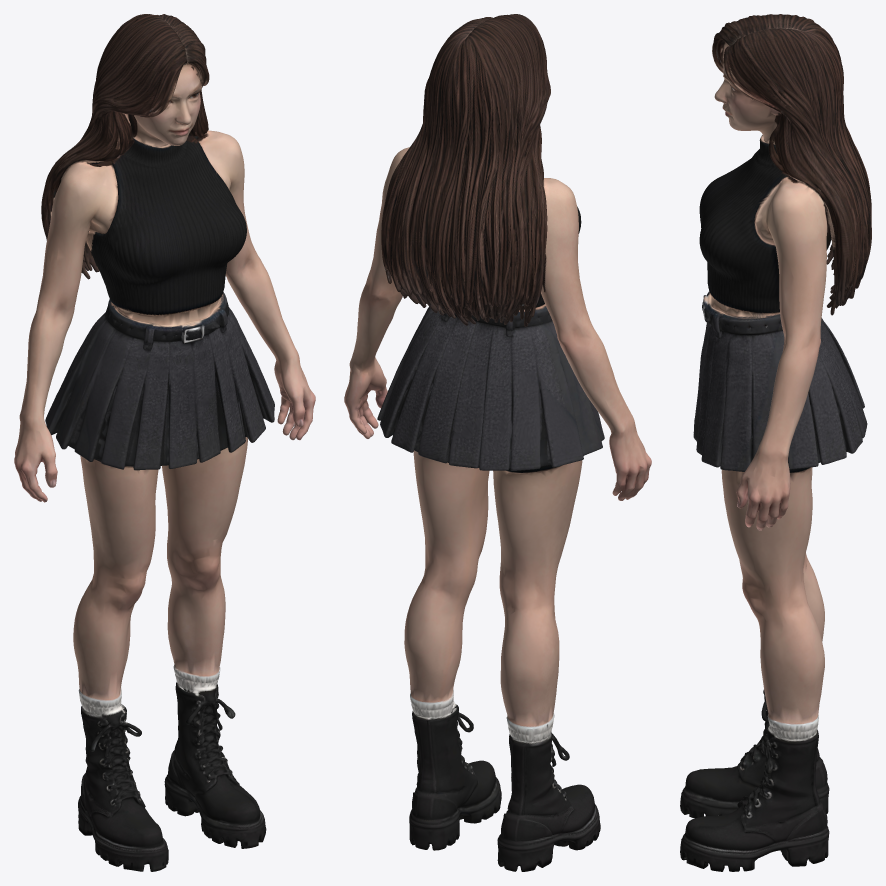
The model's file is female-street-mobile.glb.
The picture shows the model from 3 angles, left to right: view 1: azimuth 30°, elevation 25°; view 2: azimuth 150°, elevation 25°; view 3: azimuth 270°, elevation 25°; orthographic projection.
Visible parts, largest first — view 1: Dada_female_street_complete_outfit; view 2: Dada_female_street_complete_outfit; view 3: Dada_female_street_complete_outfit.
Part boxes in pixels (<box>): Dada_female_street_complete_outfit: <box>14,14,315,871</box>; Dada_female_street_complete_outfit: <box>344,14,651,871</box>; Dada_female_street_complete_outfit: <box>680,14,871,871</box>.
Bounding box in the file's own units: 0.3749 × 0.9794 × 0.2081.
Materials: 1 (1 with a texture image).
